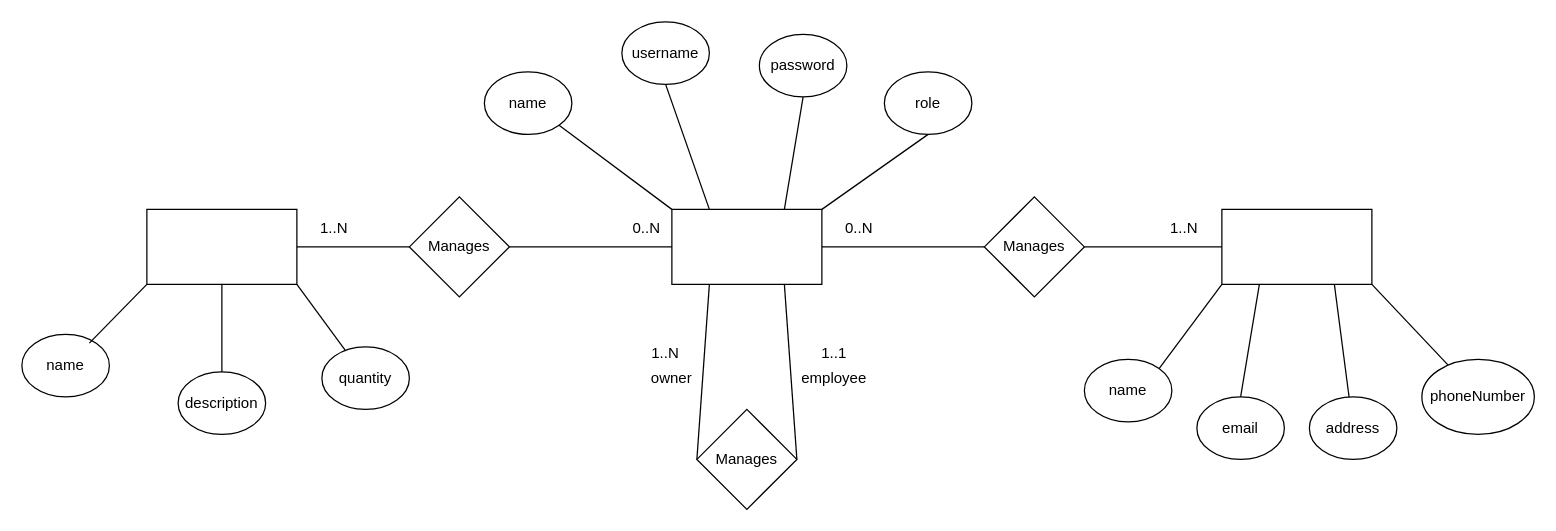
This 1556x531 diagram has some shape labels left out. The shapes that lost their labels are listed below. From the top down, each one's centre as x and y in pixels, then its label:
point 221,246: Medicine
point 746,246: User
point 1296,246: Customer
